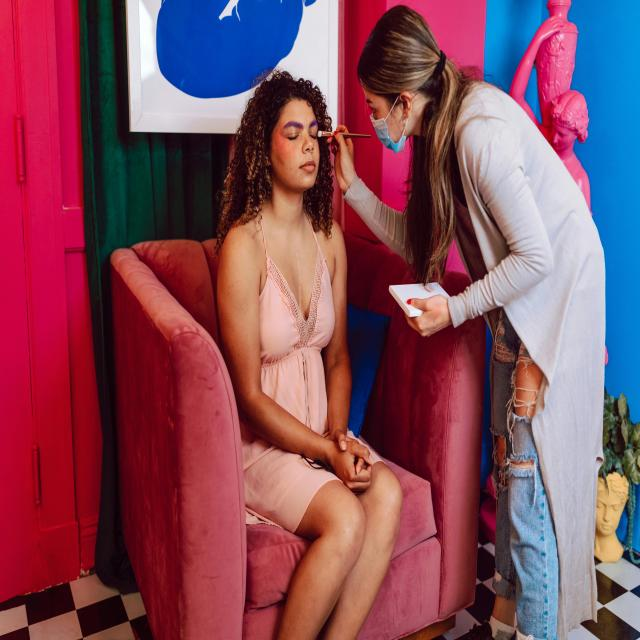sit: (221, 58, 402, 640)
stand: (361, 3, 614, 638)
